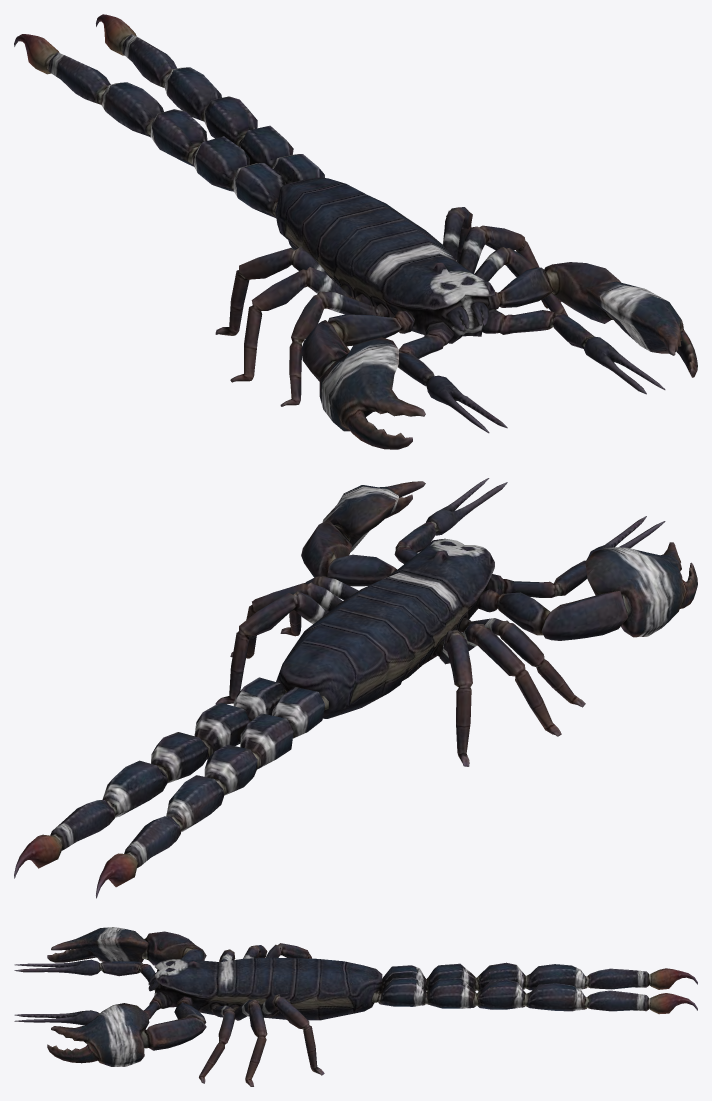
Rendered from 193-largescorpion.glb.
3 renders of one model, top to bottom at view 1: azimuth 30°, elevation 25°; view 2: azimuth 150°, elevation 25°; view 3: azimuth 270°, elevation 25°, orthographic. The views are drawn at different scales.
Bounding box in the file's own units: 1.23 × 0.3872 × 3.24.
Materials: 1 (1 with a texture image).
